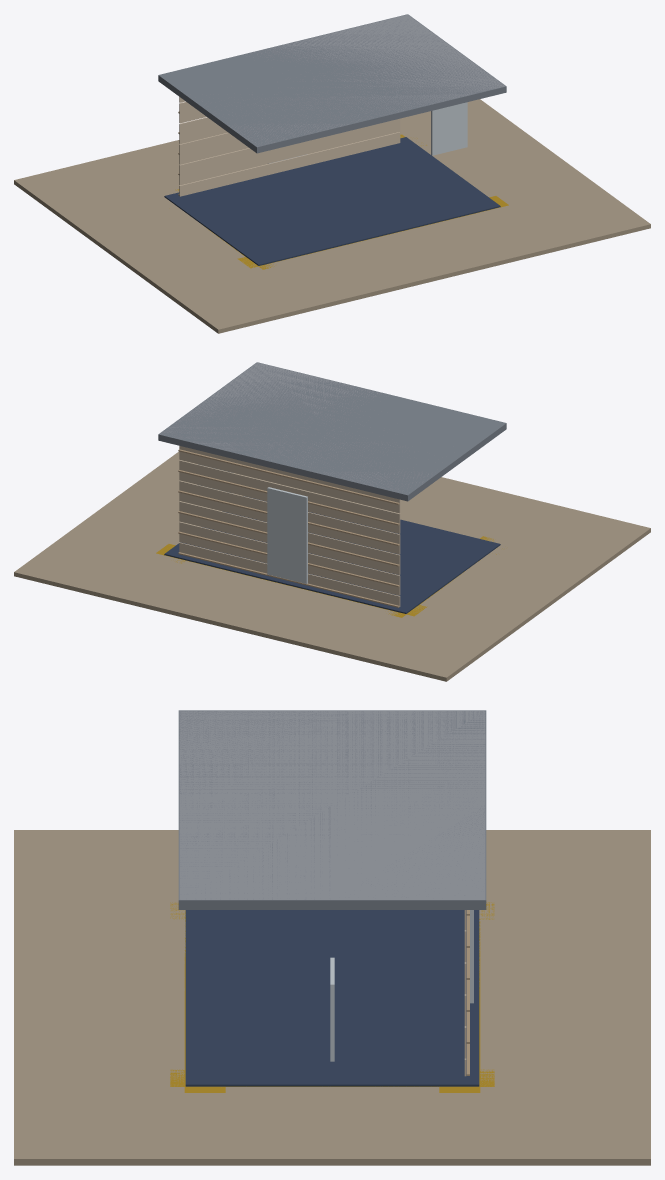
File: stage_08_bands.glb
The picture shows the model from 3 angles, top to bottom: view 1: azimuth 30°, elevation 25°; view 2: azimuth 150°, elevation 25°; view 3: azimuth 270°, elevation 25°; orthographic projection. The views are drawn at different scales.
Visible parts, largest first — view 1: world; view 2: world; view 3: world.
Part boxes in pixels (box(x1,y1,x2,y2)): world: box(14, 14, 650, 333); world: box(14, 362, 650, 681); world: box(14, 710, 650, 1165).
Bounding box in the file's own units: 11 × 3.75 × 9.
